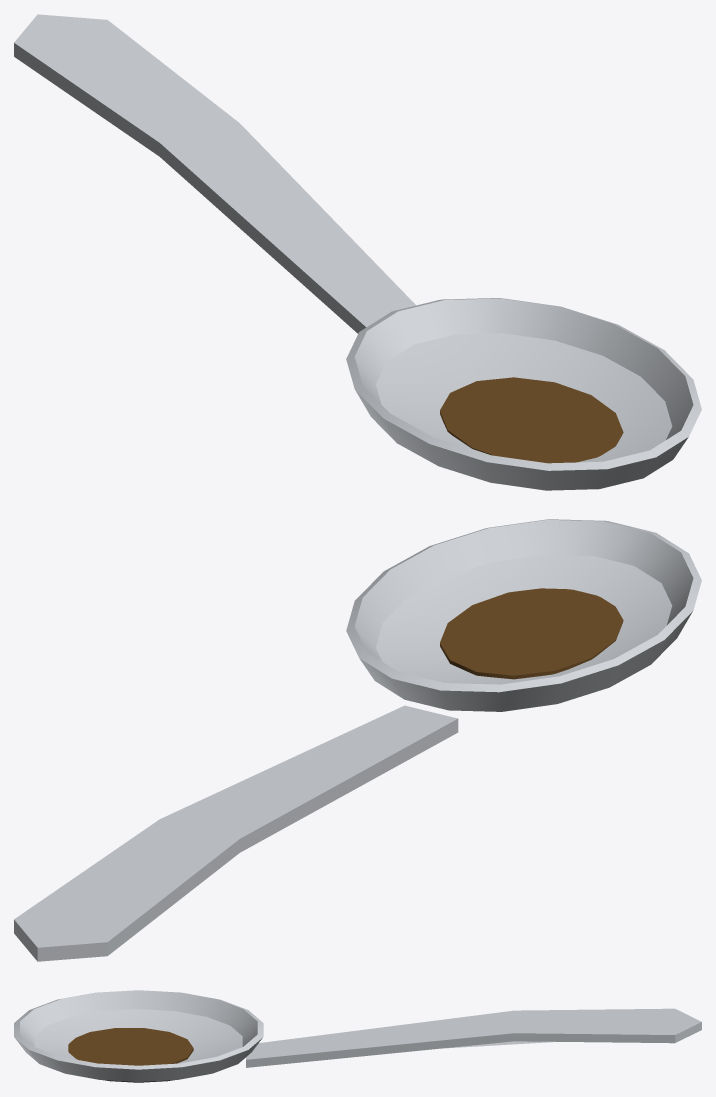
The model's file is burnt_spoon.glb.
The picture shows the model from 3 angles, top to bottom: view 1: azimuth 30°, elevation 25°; view 2: azimuth 150°, elevation 25°; view 3: azimuth 270°, elevation 25°; orthographic projection. The views are drawn at different scales.
Visible parts, largest first — view 1: burnt_spoon; view 2: burnt_spoon; view 3: burnt_spoon.
Part boxes in pixels (<box>): burnt_spoon: <box>14,14,701,490</box>; burnt_spoon: <box>14,519,701,961</box>; burnt_spoon: <box>14,990,701,1082</box>.
Bounding box in the file's own units: 0.04 × 0.00905 × 0.1466.
